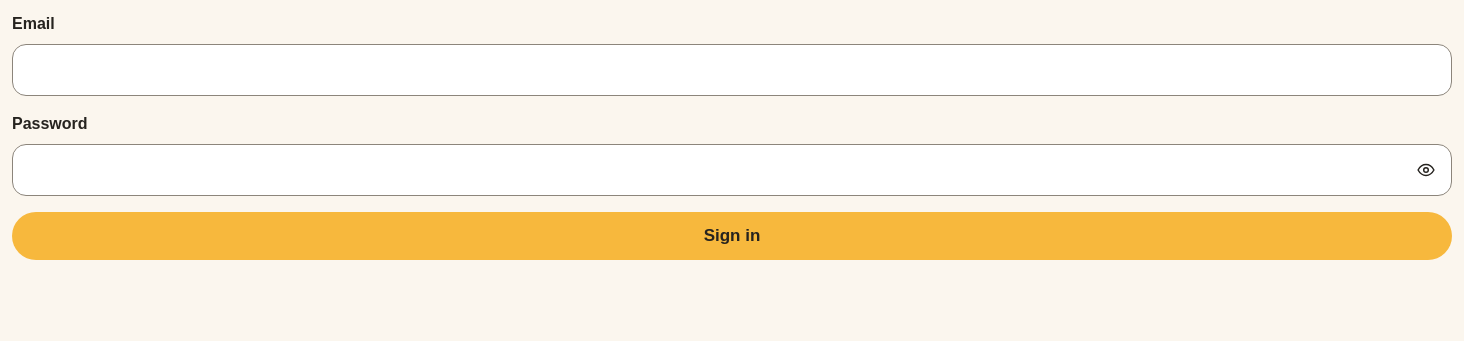
LoginForm › field errors render under their fields and mark them invalid
Type "mira@example.com" into the field labelled "Email". click: [732, 70]
box: [12,44,1452,96]
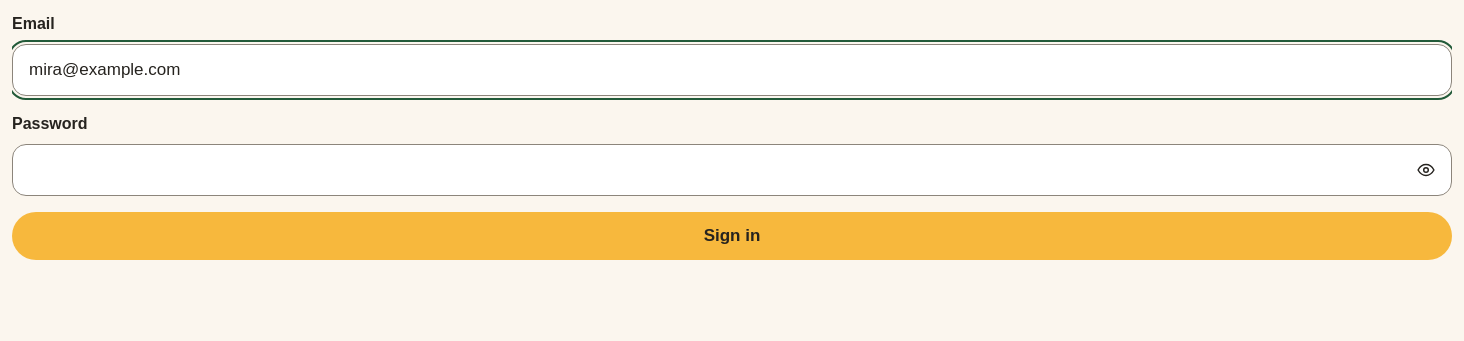
Type "not-the-password" into the password field labelled "Password". click: [732, 170]
box: [12,144,1452,196]
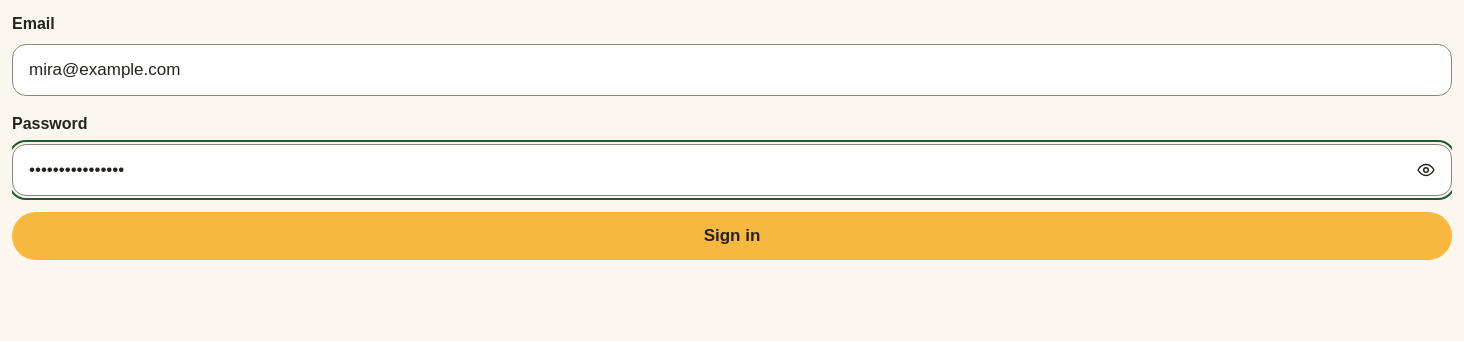
Click the button "Sign in". click: [732, 236]
box: [12,212,1452,260]
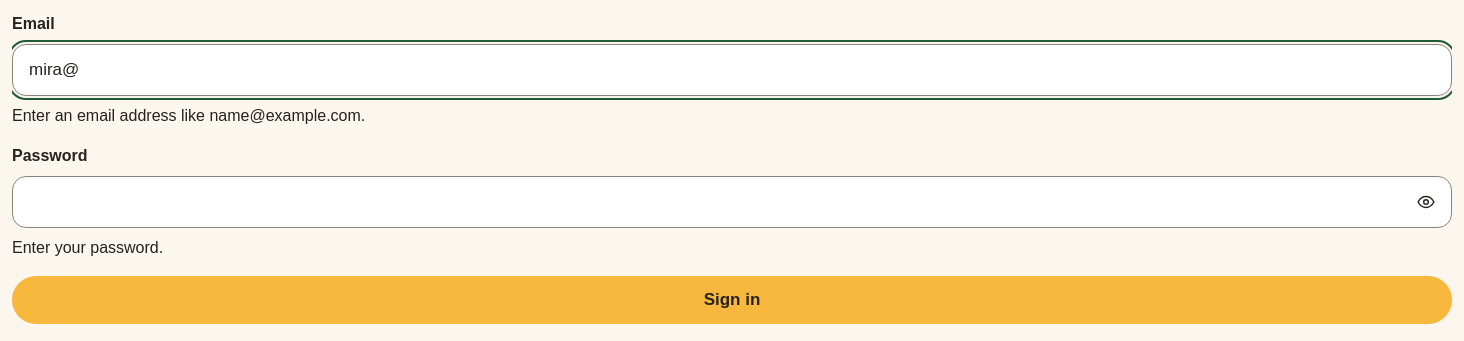
Now the text "Enter an email address like name@example.com." is shown, box [12,107,365,124]
Now the text "Enter your password." is shown, box [12,239,163,256]
Now the field labelled "Email" holds "mira@", box [12,44,1452,96]
